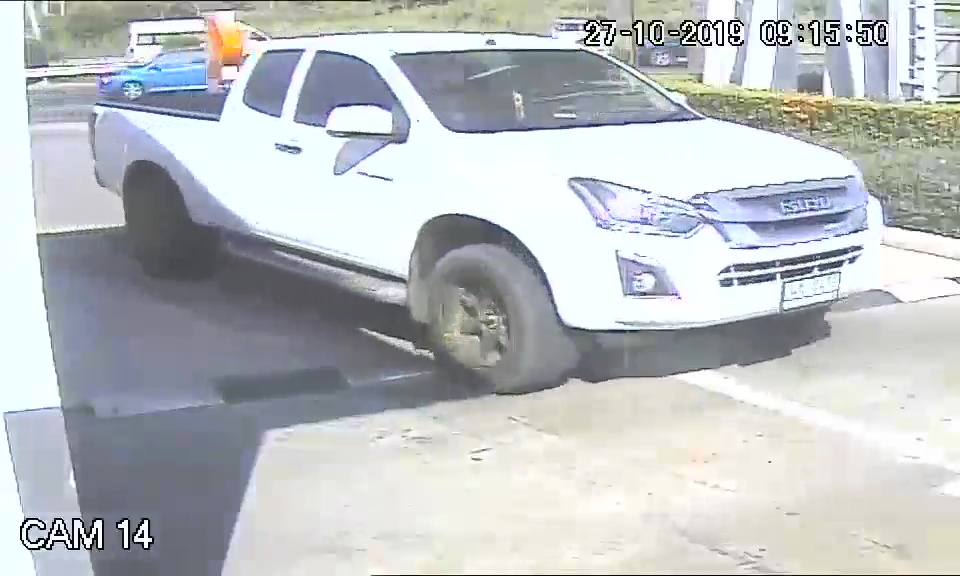pickup: (88, 32, 883, 397)
